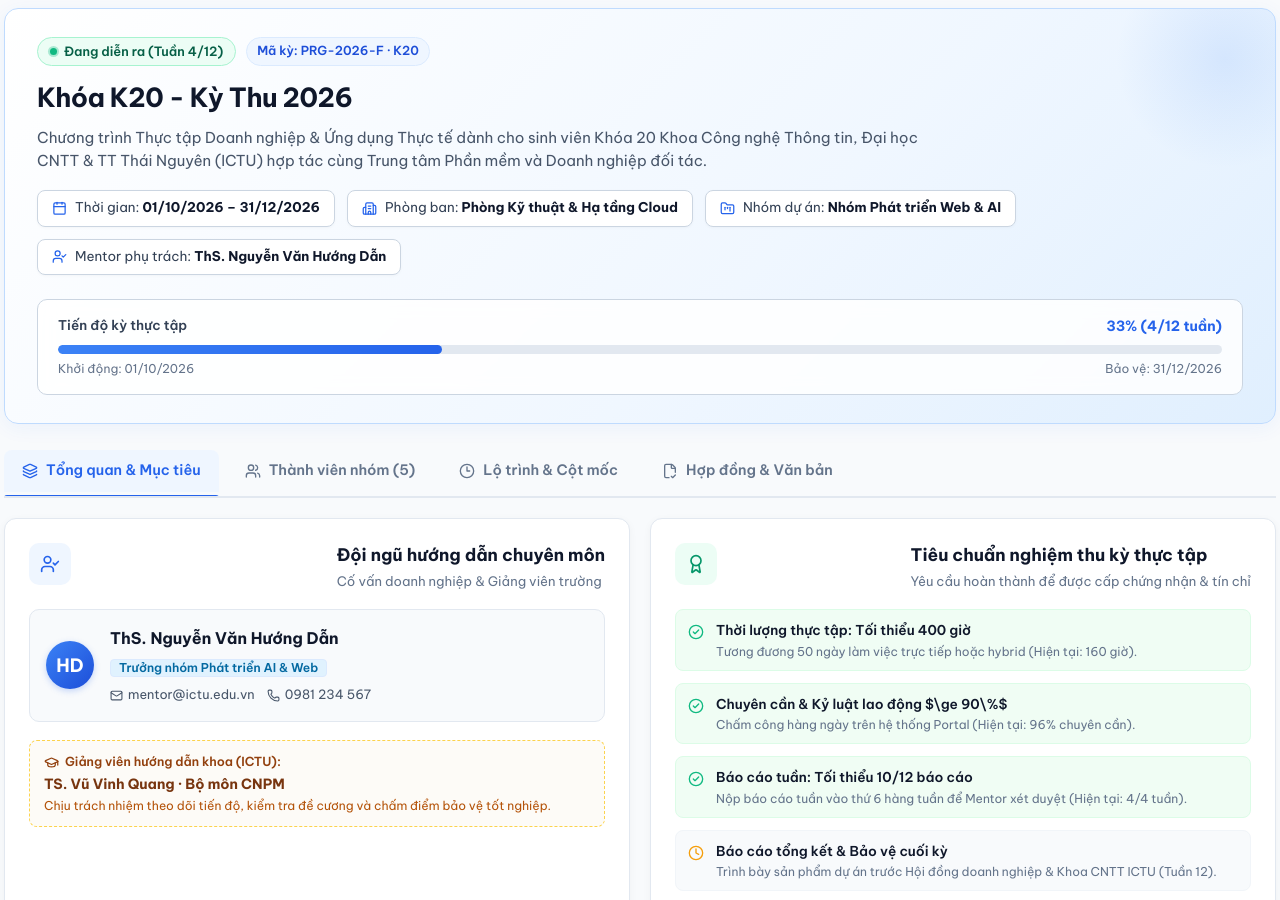
Test: InternProgramPage Component Test Suite (Tab Kỳ thực tập của TTS) › 6. Chuyển sang tab "Hợp đồng & Văn bản": hiển thị Hợp đồng tiếp nhận và Quyết định phân công
The width and height of the screenshot is (1280, 900).
Click the button "Hợp đồng & Văn bản".
click(747, 471)  # box [644, 450, 851, 492]
(page scrolled)
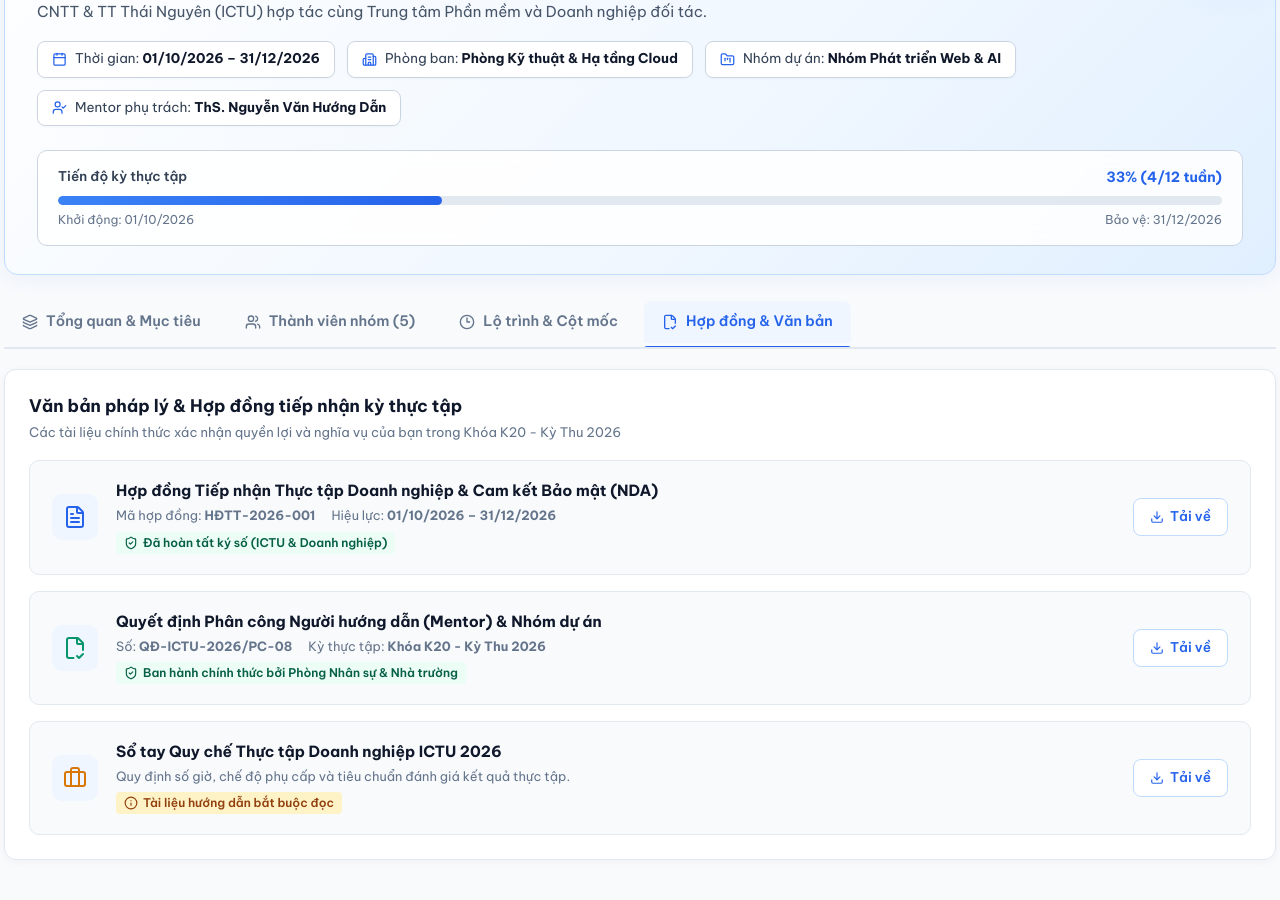
Now the heading "Hợp đồng Tiếp nhận Thực tập Doanh nghiệp & Cam kết Bảo mật" is shown, box [116, 481, 658, 500]
Now the heading "Quyết định Phân công Người hướng dẫn (Mentor) & Nhóm dự án" is shown, box [116, 612, 602, 630]
Now the heading "Sổ tay Quy chế Thực tập Doanh nghiệp ICTU 2026" is shown, box [116, 742, 502, 761]
